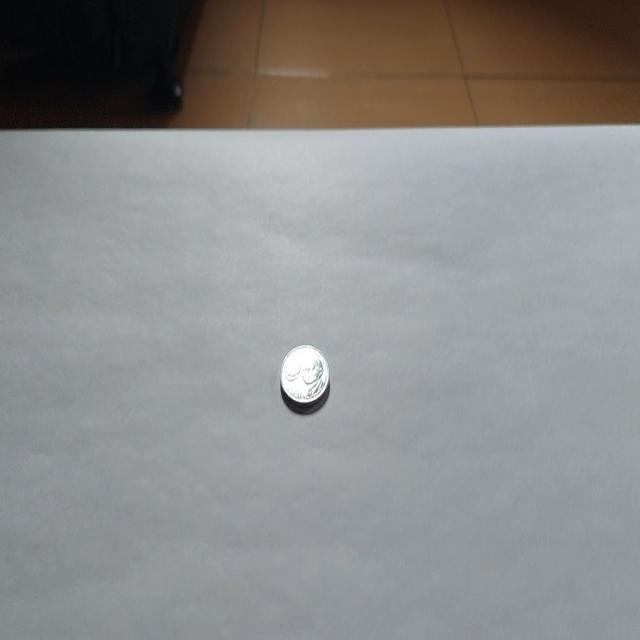lima ratus rupiah: (279, 342, 330, 413)
